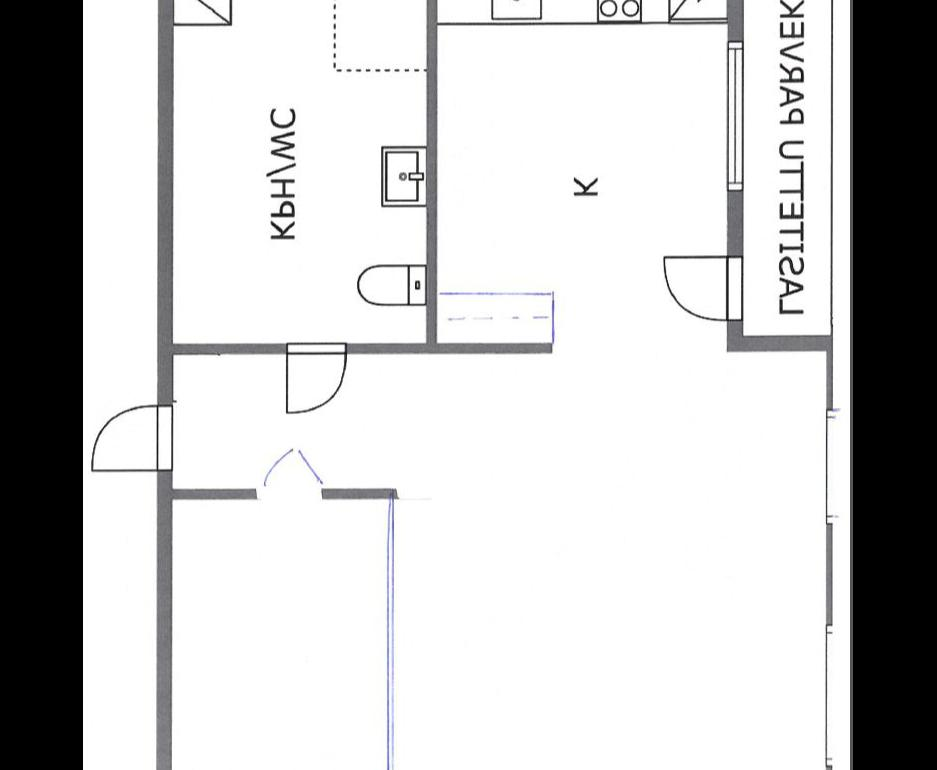door: (656, 250, 750, 328), (92, 401, 179, 477), (282, 339, 352, 421)
window: (722, 30, 750, 198), (816, 617, 841, 770), (820, 402, 842, 531)
